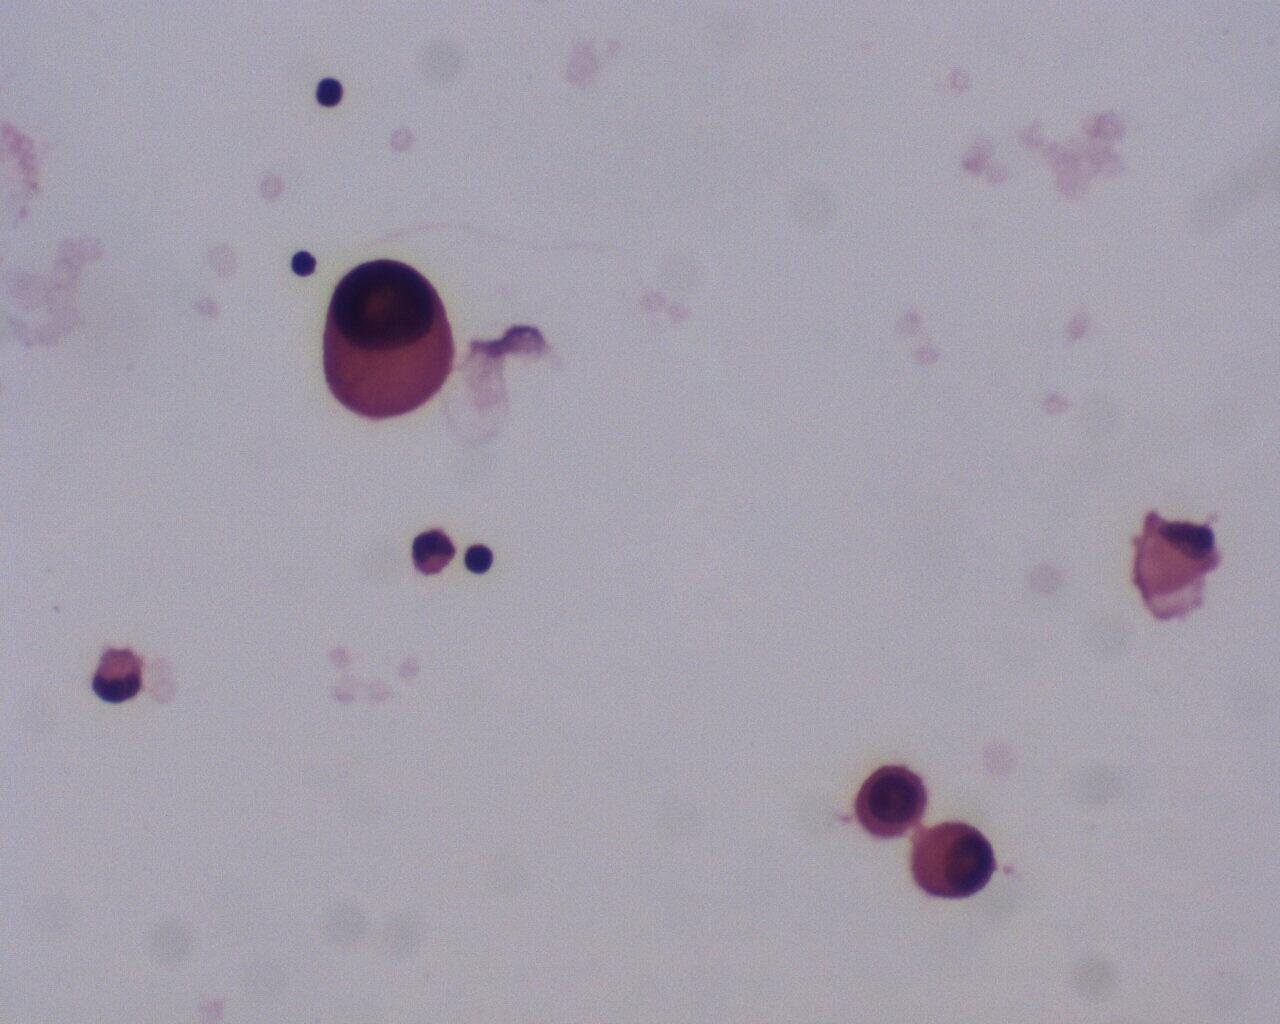ab: (317, 258, 459, 426), (914, 816, 1003, 904), (854, 757, 929, 847)
lymph: (305, 69, 353, 116), (453, 540, 501, 580), (284, 245, 327, 281)
